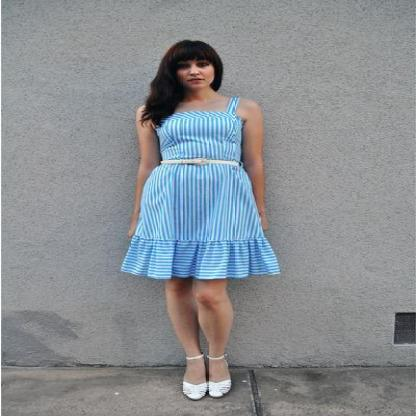dress: (122, 108, 278, 279)
shoe: (186, 351, 232, 398)
